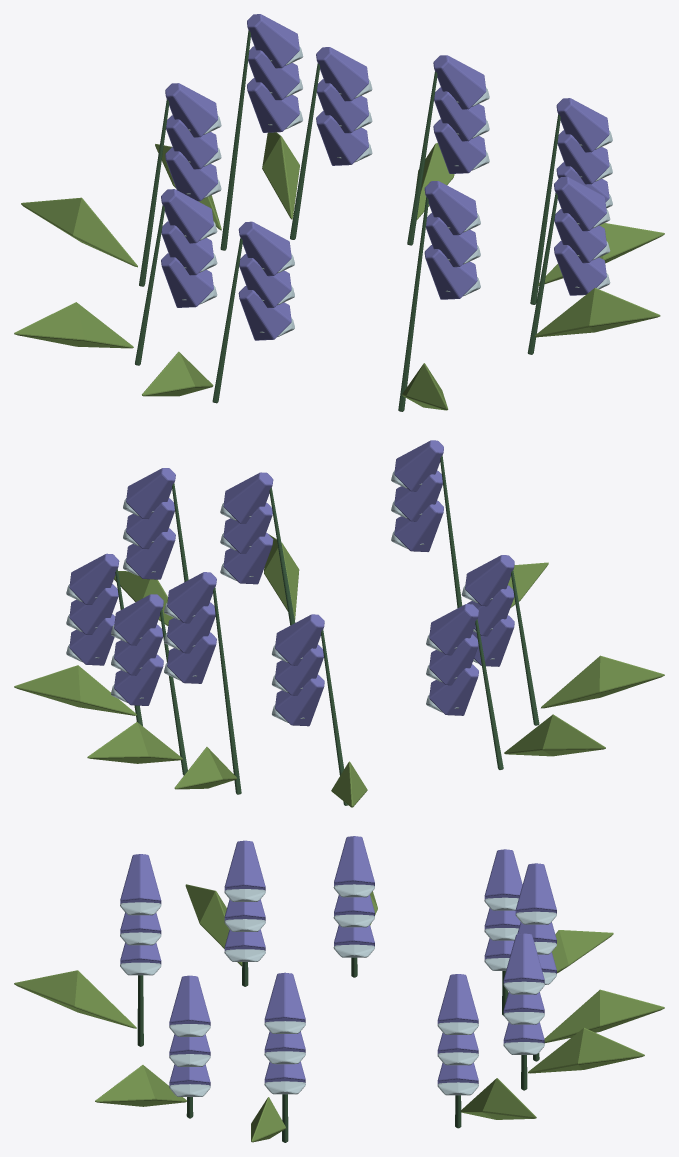
The model's file is bluebell_patch.glb.
The picture shows the model from 3 angles, top to bottom: view 1: azimuth 30°, elevation 25°; view 2: azimuth 150°, elevation 25°; view 3: azimuth 270°, elevation 25°; orthographic projection. The views are drawn at different scales.
Visible parts, largest first — view 1: HangingBell.002, BasalLeaf.002, Stem.002, BellLip.002; view 2: HangingBell.002, BasalLeaf.002, Stem.002, BellLip.002; view 3: HangingBell.002, BasalLeaf.002, BellLip.002, Stem.002.
Part boxes in pixels (x1,y1,x2,y2): HangingBell.002: (161, 14, 609, 340); BasalLeaf.002: (14, 132, 664, 410); Stem.002: (135, 30, 560, 411); BellLip.002: (182, 46, 612, 336); HangingBell.002: (69, 440, 514, 726); BasalLeaf.002: (14, 534, 664, 807); Stem.002: (115, 455, 539, 805); BellLip.002: (66, 471, 494, 722); HangingBell.002: (120, 836, 556, 1085); BasalLeaf.002: (14, 884, 664, 1142); BellLip.002: (120, 884, 556, 1096); Stem.002: (137, 957, 539, 1142).
Size of the model in its own units: 1.55 by 0.5694 by 1.57.
